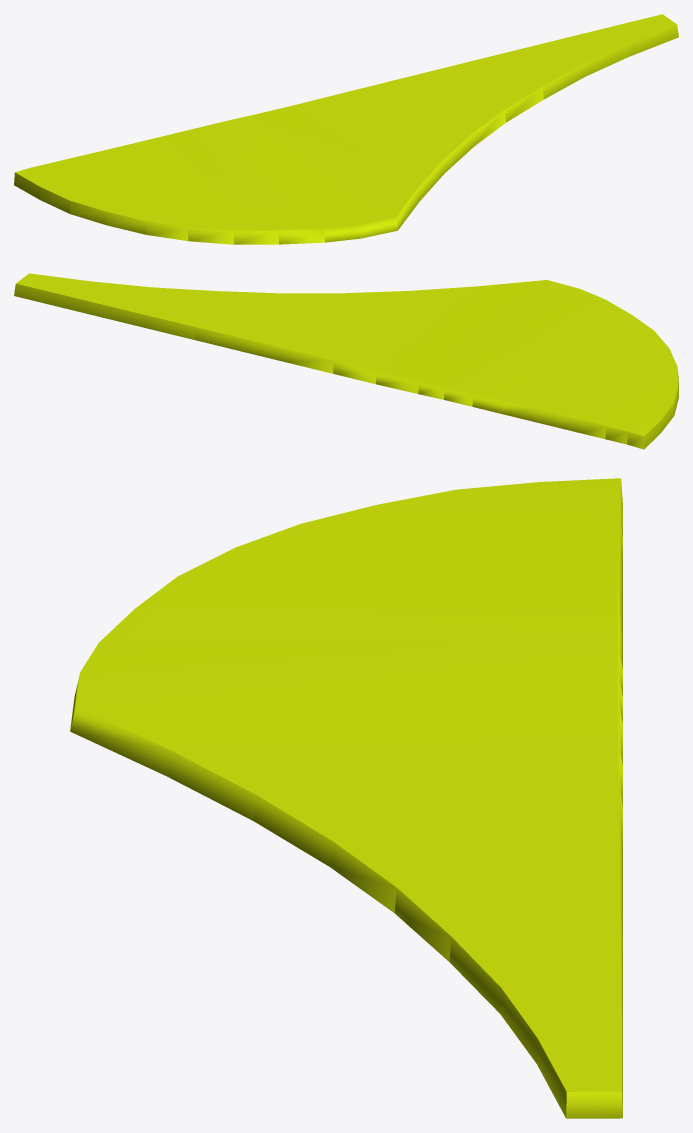
Rendered from Exit_Turn_01.fbx.
3 renders of one model, top to bottom at view 1: azimuth 30°, elevation 25°; view 2: azimuth 150°, elevation 25°; view 3: azimuth 270°, elevation 25°, orthographic. The views are drawn at different scales.
Parts seen in each view (by area): view 1: Exit_Turn_01; view 2: Exit_Turn_01; view 3: Exit_Turn_01.
Boxes of the visible parts, left/top/right/bottom form: Exit_Turn_01: left=14, top=14, right=678, bottom=244; Exit_Turn_01: left=14, top=273, right=678, bottom=449; Exit_Turn_01: left=70, top=478, right=622, bottom=1118.
Size of the model in its own units: 11.67 by 0.2418 by 4.43.
